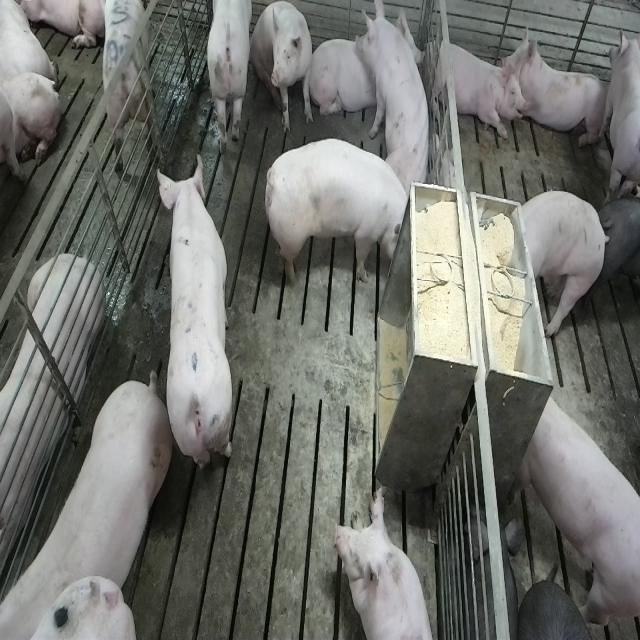Sitting: (358, 0, 433, 187), (251, 1, 315, 133)
Standing: (517, 391, 639, 628), (157, 150, 234, 481), (269, 132, 415, 282), (511, 193, 609, 343), (102, 1, 156, 168), (204, 2, 254, 153), (606, 25, 640, 202), (599, 190, 640, 312)
Sternal_lying: (0, 248, 102, 584), (333, 482, 439, 640), (510, 32, 612, 150), (424, 30, 522, 140), (311, 21, 380, 124)
